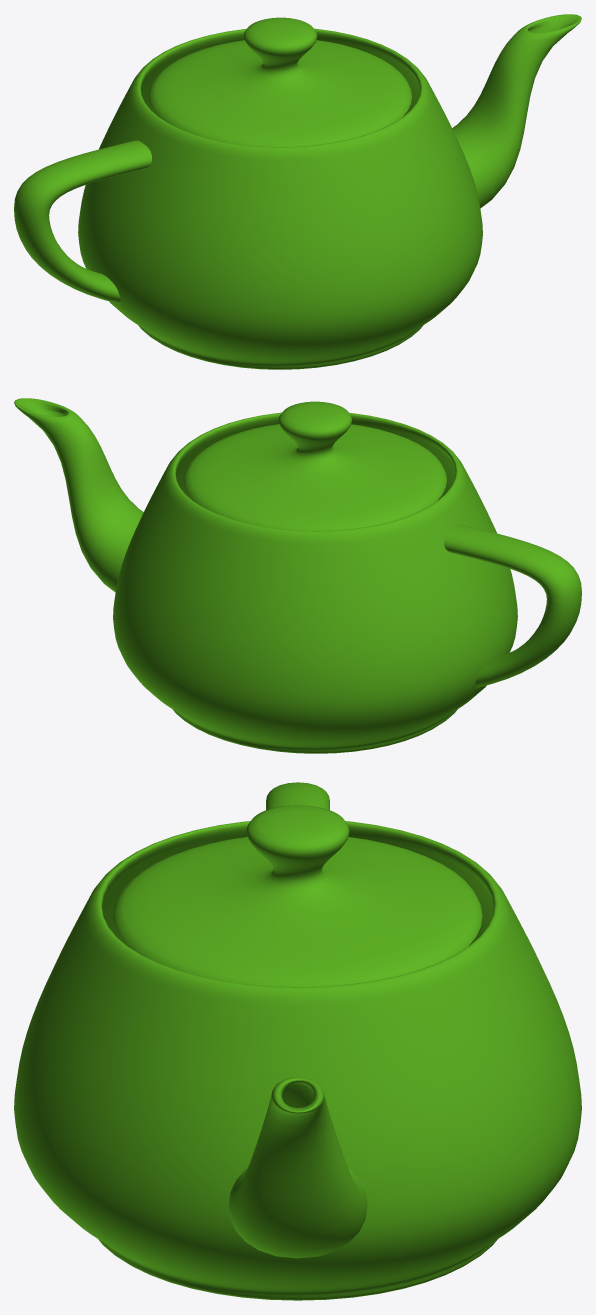
File: teapot.obj
The picture shows the model from 3 angles, top to bottom: view 1: azimuth 30°, elevation 25°; view 2: azimuth 150°, elevation 25°; view 3: azimuth 270°, elevation 25°; orthographic projection. The views are drawn at different scales.
Visible parts, largest first — view 1: Teapot001; view 2: Teapot001; view 3: Teapot001.
Boxes of the visible parts, x1=… form: Teapot001: x1=14, y1=14, x2=581, y2=369; Teapot001: x1=14, y1=398, x2=581, y2=753; Teapot001: x1=14, y1=782, x2=581, y2=1300.
Bounding box in the file's own units: 322 × 158 × 200.
